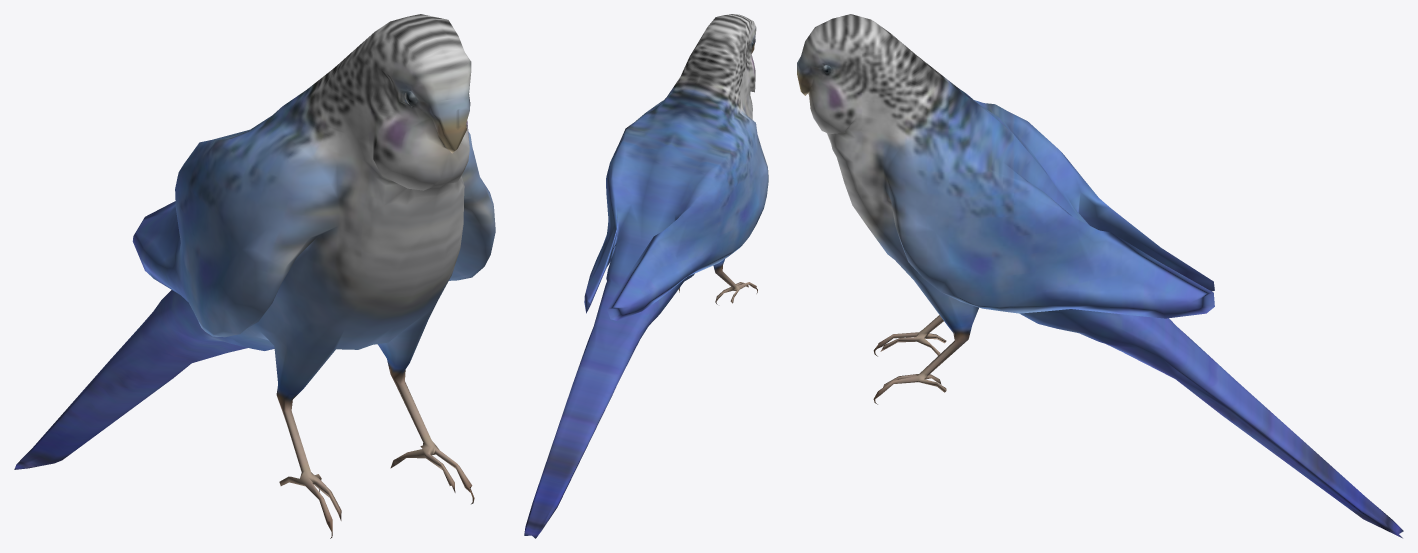
Rendered from Parakeet.fbx.
3 views of the same model, side by side, from view 1: azimuth 30°, elevation 25°; view 2: azimuth 150°, elevation 25°; view 3: azimuth 270°, elevation 25° (orthographic). The views are drawn at different scales.
Visible parts, largest first — view 1: parakeet; view 2: parakeet; view 3: parakeet.
Boxes of the visible parts, x1,y1,x2,y2 form: parakeet: (14,14,495,538); parakeet: (524,14,768,538); parakeet: (797,14,1403,538).
Size of the model in its own units: 11.17 by 30.87 by 32.97.
1 material, 1 textured.
